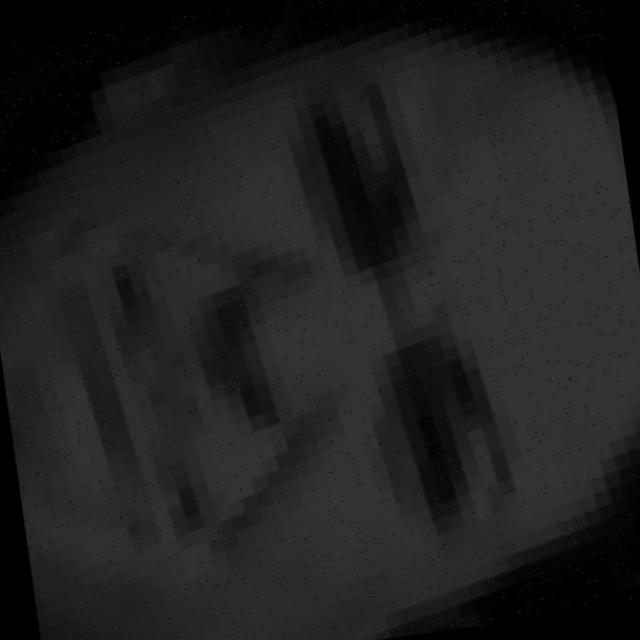Disgust: (47, 45, 554, 620)
